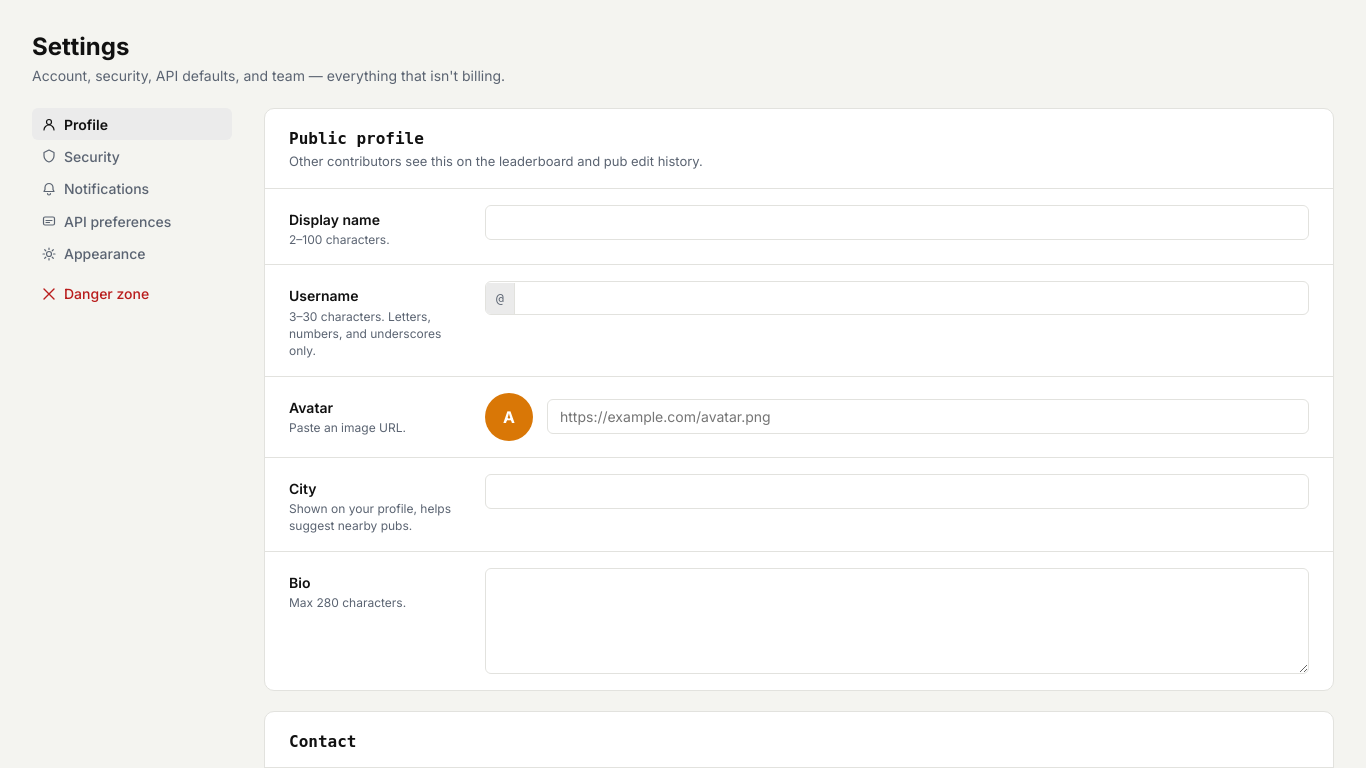
Test: SettingsPage › shows a generic error message when fetch throws
Click the button "Danger zone": (132, 294) x1=32 y1=278 x2=232 y2=310
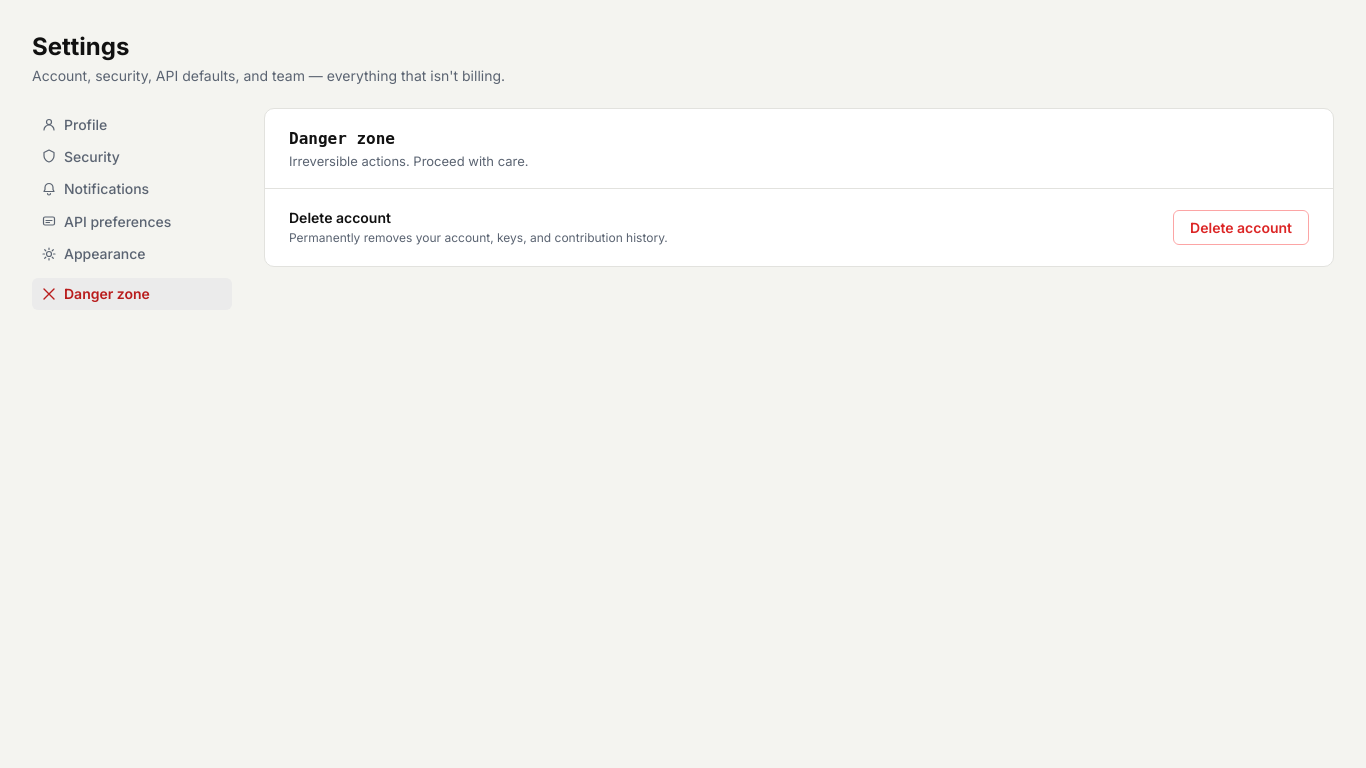
Click the button "Delete account": (1241, 228) x1=1173 y1=210 x2=1309 y2=245
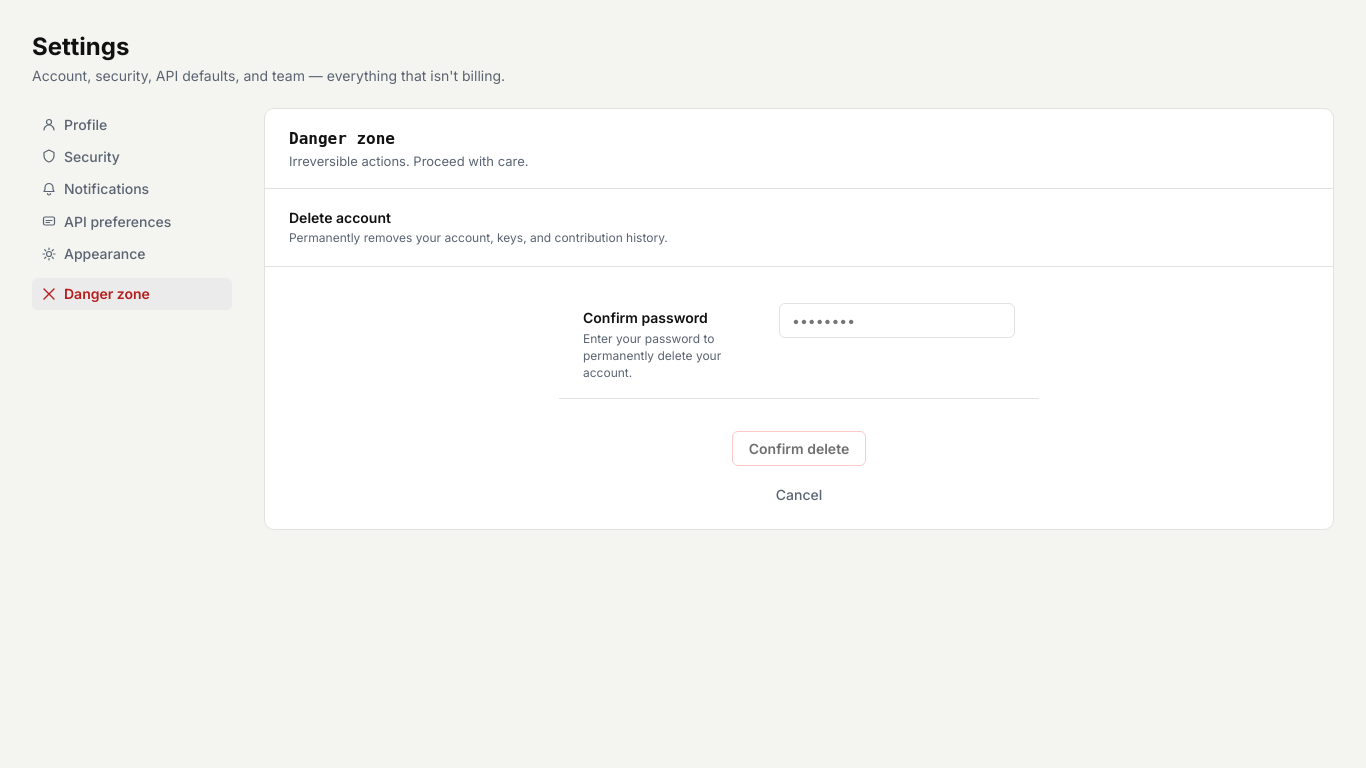
In the password field with placeholder "••••••••": (897, 321) x1=779 y1=304 x2=1015 y2=338, type "my-password"
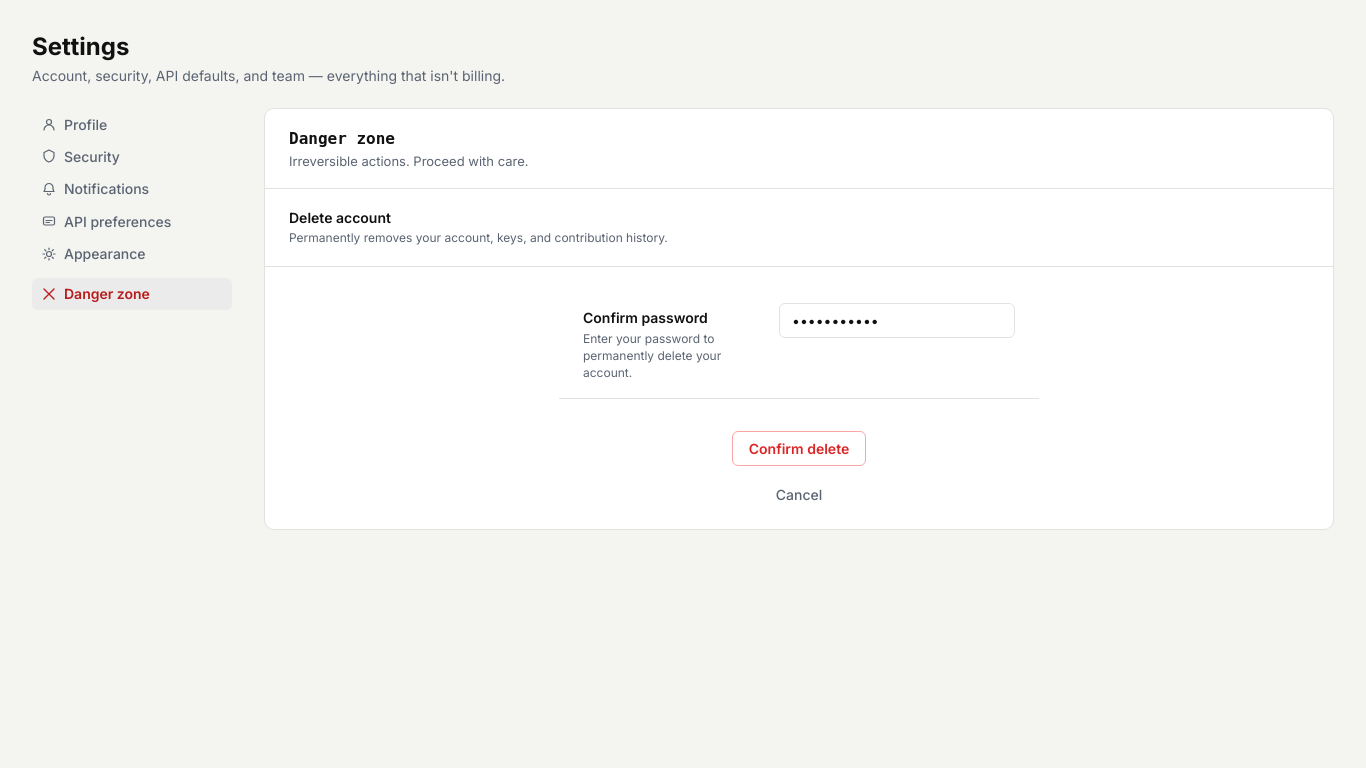
Submit the form named "Confirm delete", box x1=559 y1=288 x2=1039 y2=509
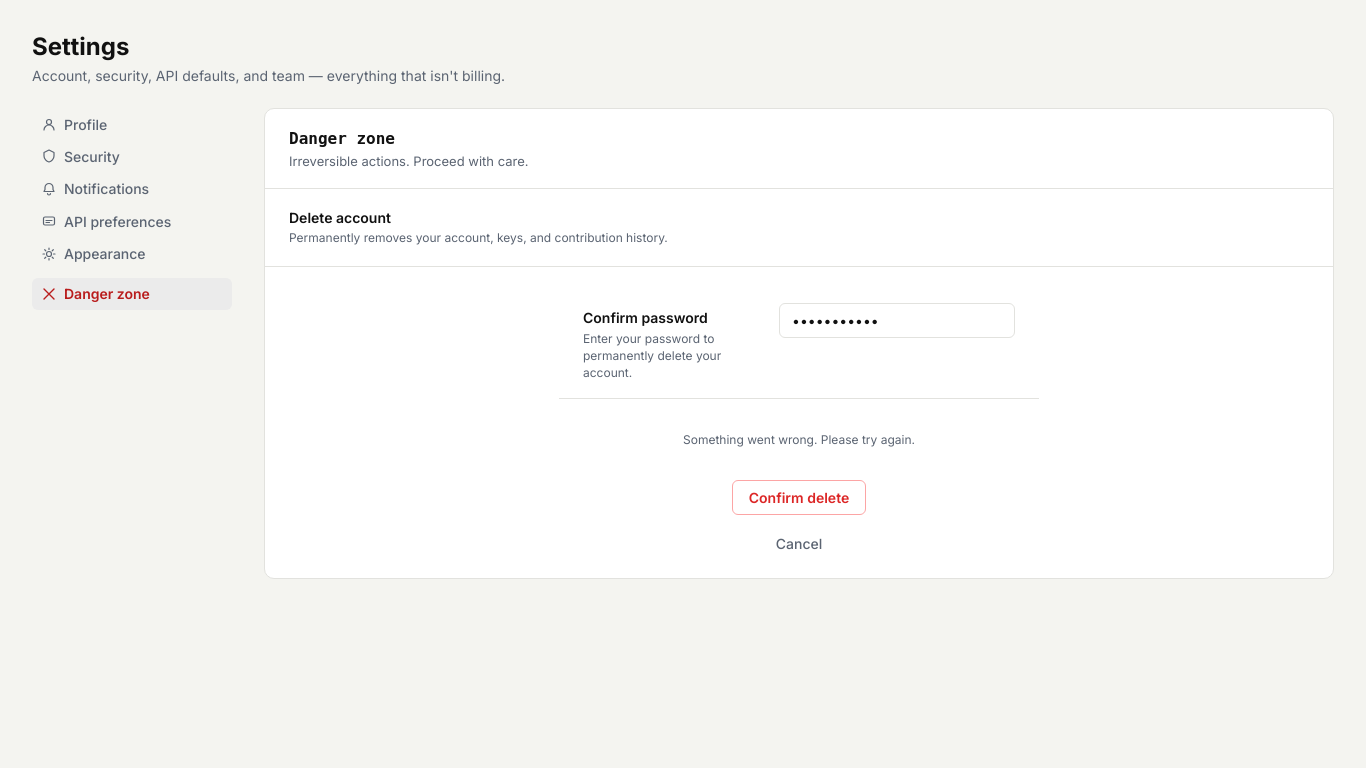
Expected: the text "Something went wrong. Please try again." is shown, x1=683 y1=431 x2=915 y2=448
